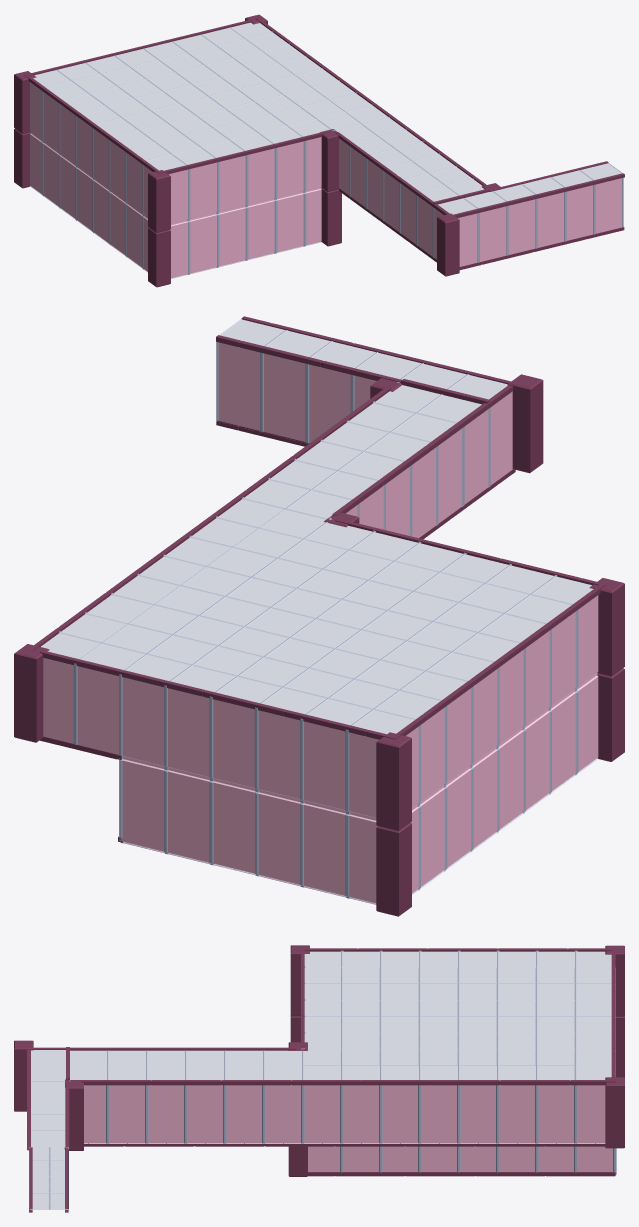
Rendered from Section_01.fbx.
3 renders of one model, top to bottom at view 1: azimuth 30°, elevation 25°; view 2: azimuth 150°, elevation 25°; view 3: azimuth 270°, elevation 25°, orthographic. The views are drawn at different scales.
Visible parts, largest first — view 1: Section_01_Mesh; view 2: Section_01_Mesh; view 3: Section_01_Mesh.
Part boxes in pixels (bbox=[...]): Section_01_Mesh: bbox=[14, 14, 624, 287]; Section_01_Mesh: bbox=[14, 316, 624, 916]; Section_01_Mesh: bbox=[14, 945, 624, 1212].
Size of the model in its own units: 2460 by 731 by 3133.
6 materials, 6 textured.
